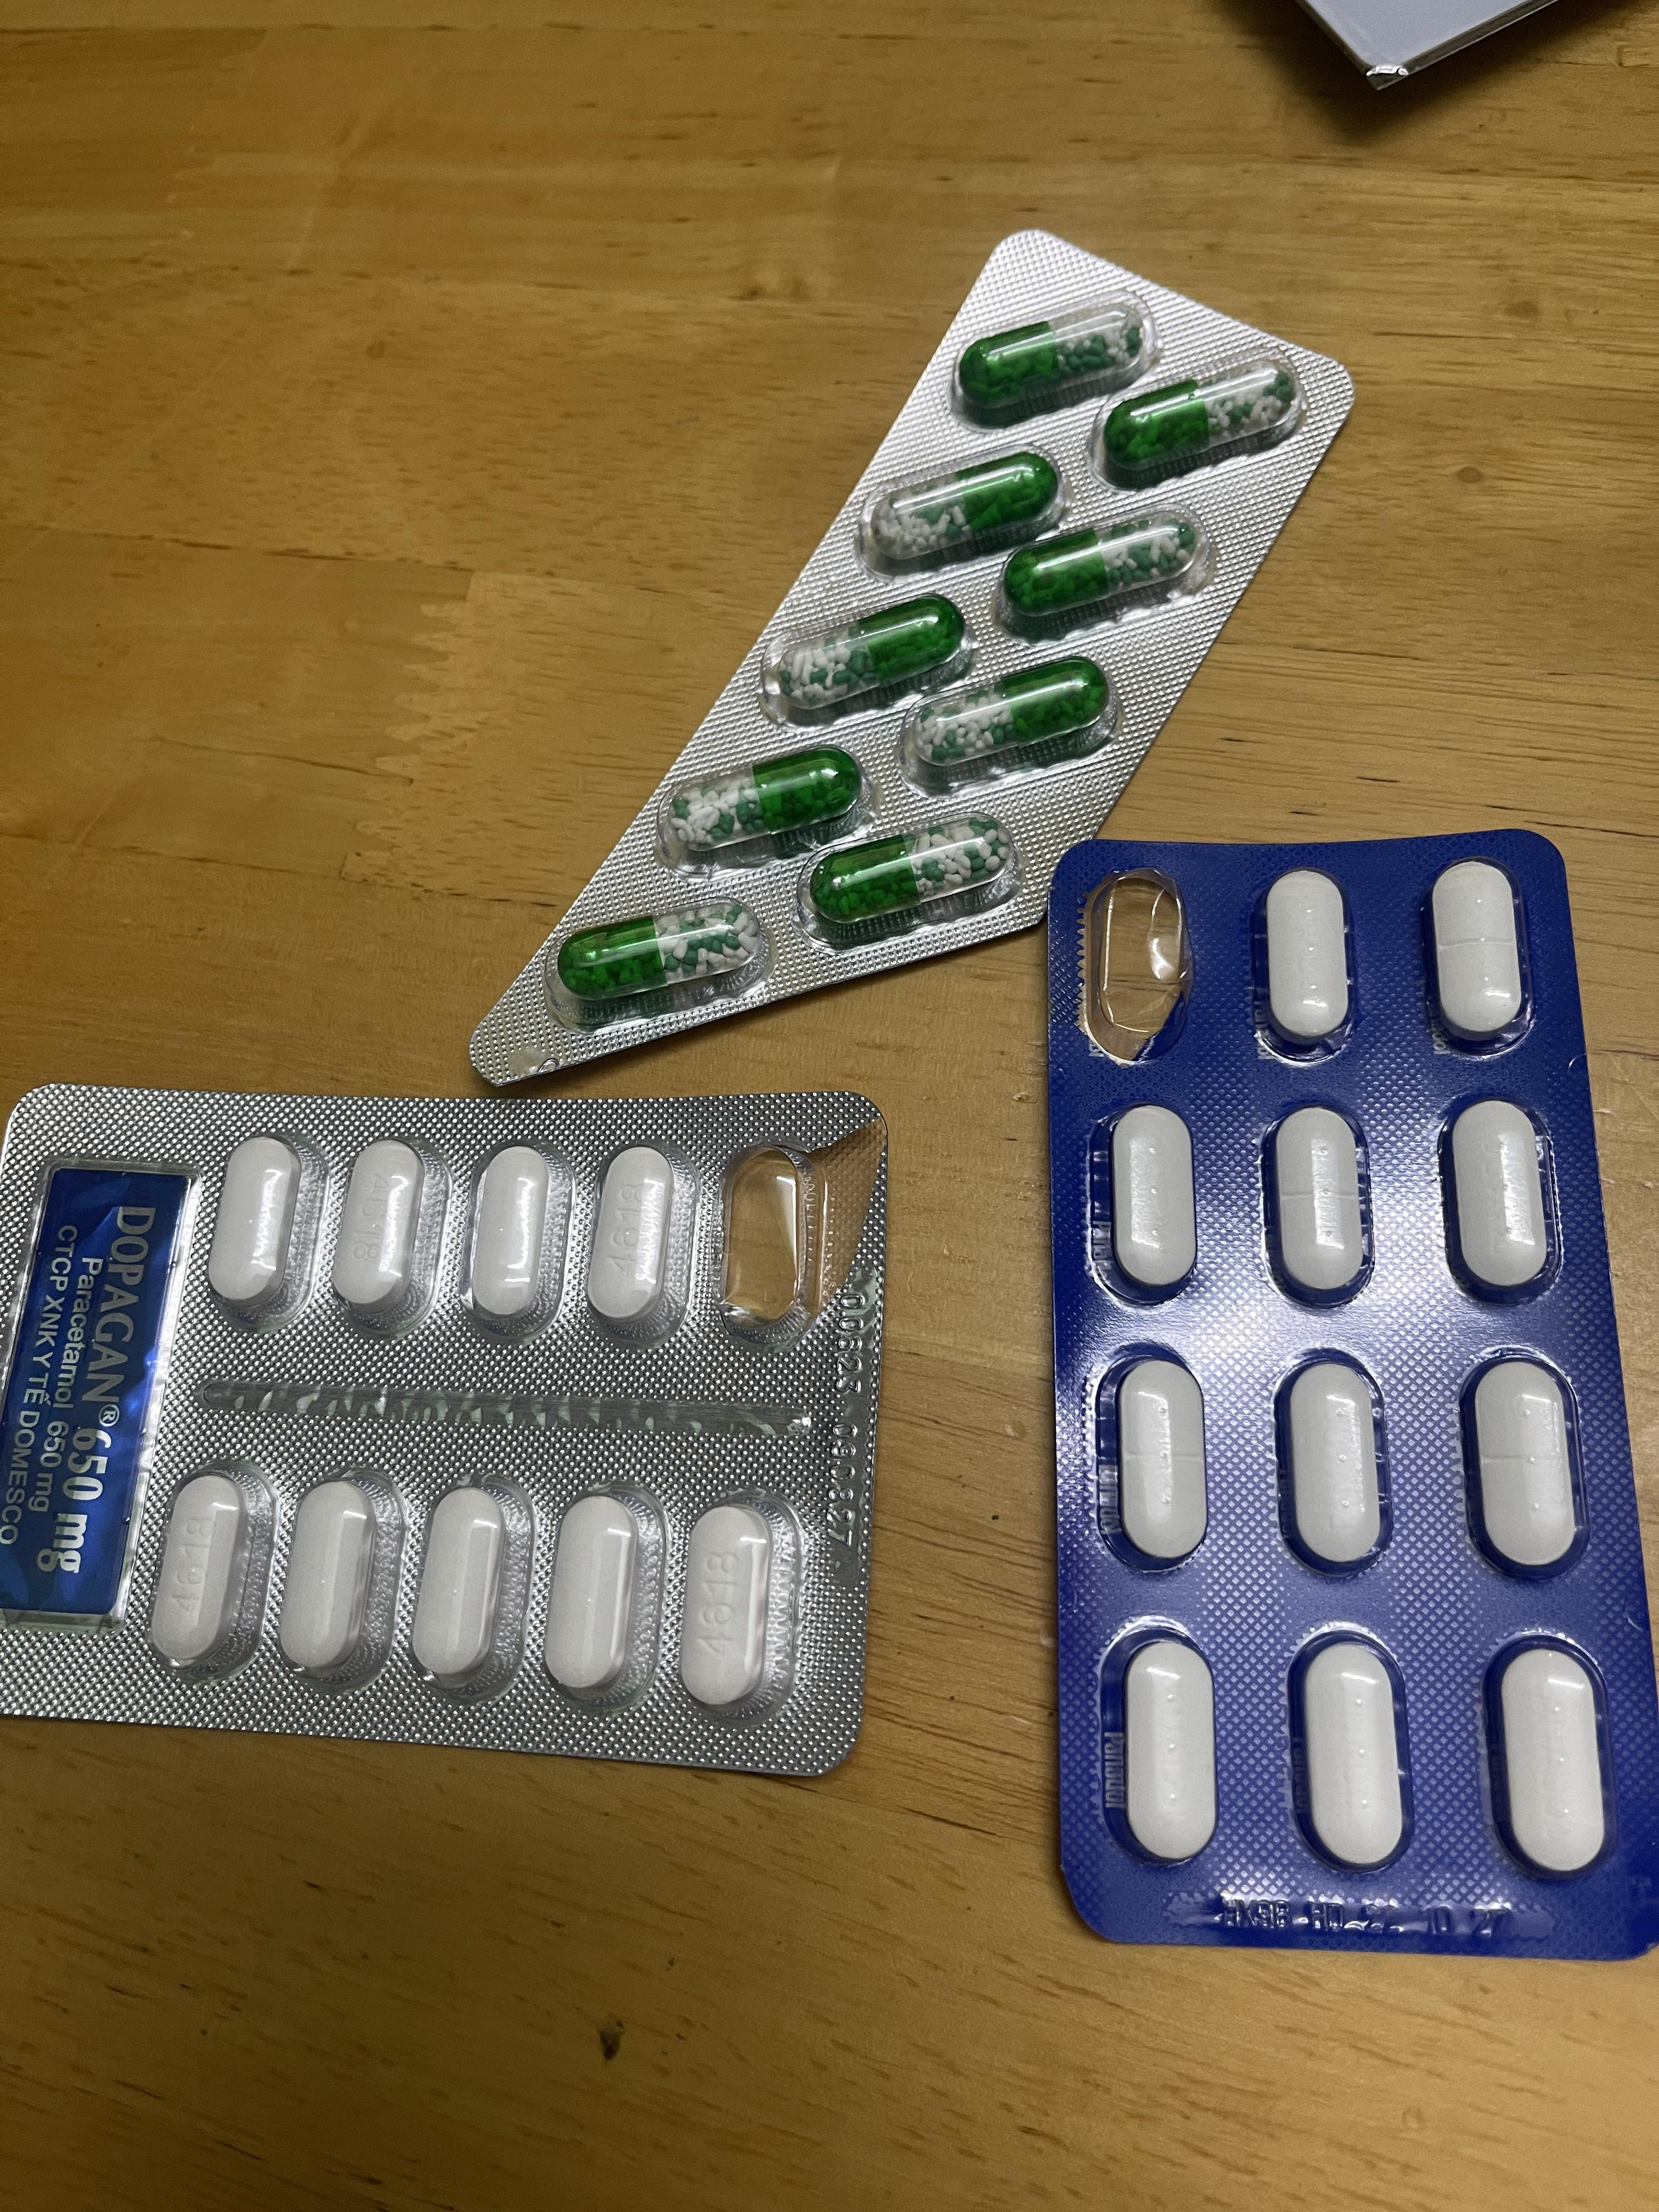Paracetamol_350mg: (1493, 1644, 1608, 1879), (1298, 1639, 1406, 1872), (1469, 1362, 1581, 1578), (1119, 1635, 1218, 1867), (1286, 1360, 1385, 1573), (1098, 1104, 1201, 1299), (1117, 1355, 1209, 1566), (1452, 1103, 1551, 1294), (1274, 1109, 1366, 1305), (1431, 860, 1527, 1045), (1263, 871, 1352, 1045)
Paracetamol_500mg: (669, 1496, 796, 1719), (537, 1486, 659, 1709), (403, 1479, 526, 1696), (272, 1474, 396, 1689), (145, 1470, 265, 1676), (580, 1141, 690, 1336), (324, 1137, 434, 1327), (460, 1141, 566, 1336), (206, 1136, 307, 1317)
Paracetamol_650mg: (812, 822, 1007, 928), (918, 662, 1110, 770), (1107, 369, 1297, 474), (779, 601, 960, 709), (877, 456, 1054, 561), (958, 314, 1141, 415), (676, 752, 857, 852), (561, 909, 755, 1001), (1011, 519, 1182, 611)
